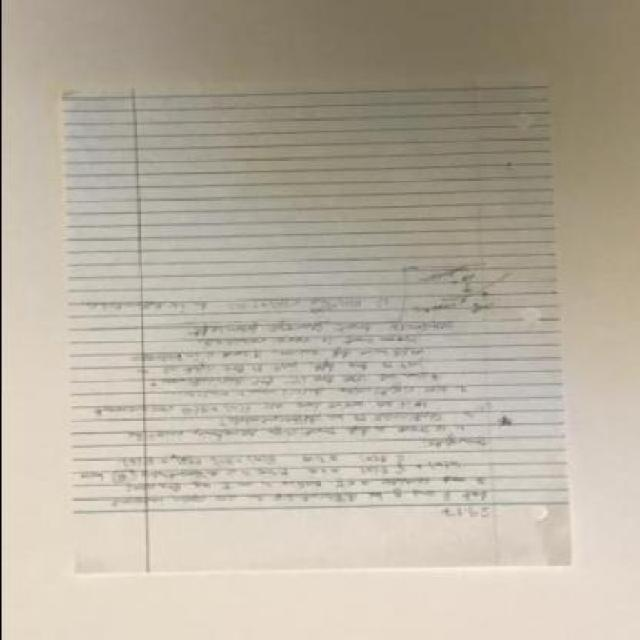PAPER: (61, 81, 572, 576)
